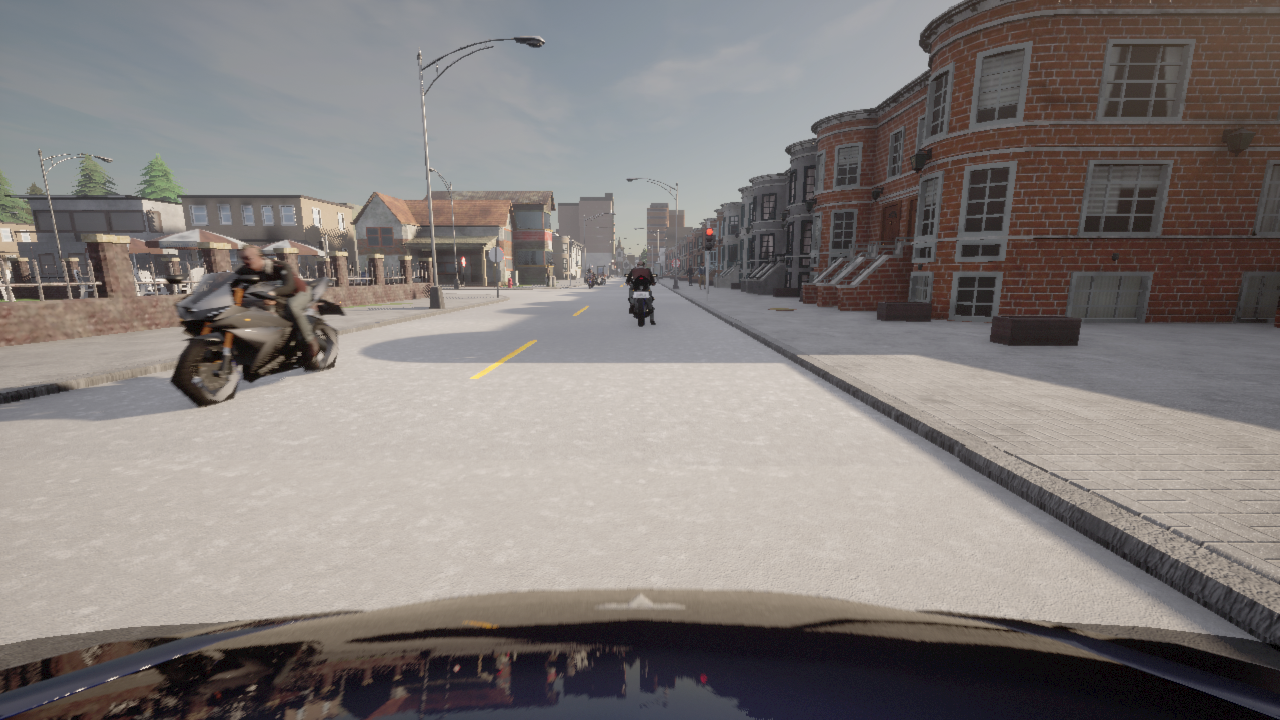cyclist: (0, 588, 1279, 719), (163, 270, 345, 407), (624, 274, 657, 326), (587, 268, 599, 285), (585, 273, 594, 288), (599, 274, 604, 284)
pedestrian: (698, 262, 705, 289), (687, 265, 693, 284), (546, 264, 549, 286)
